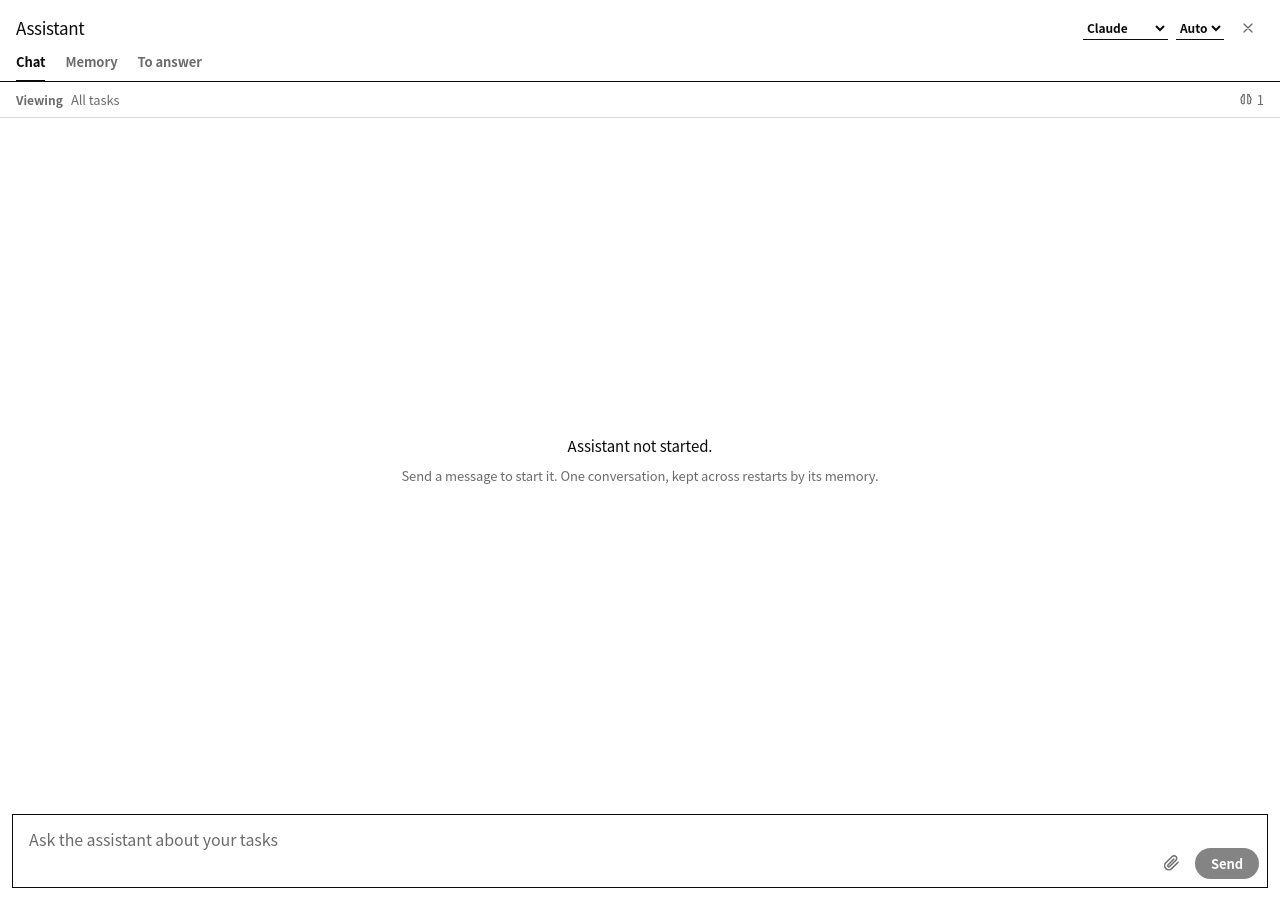
AssistantPanel › labels the memory search and filter
Click the tab "Memory".
click(92, 63)  # box x1=65 y1=44 x2=118 y2=82
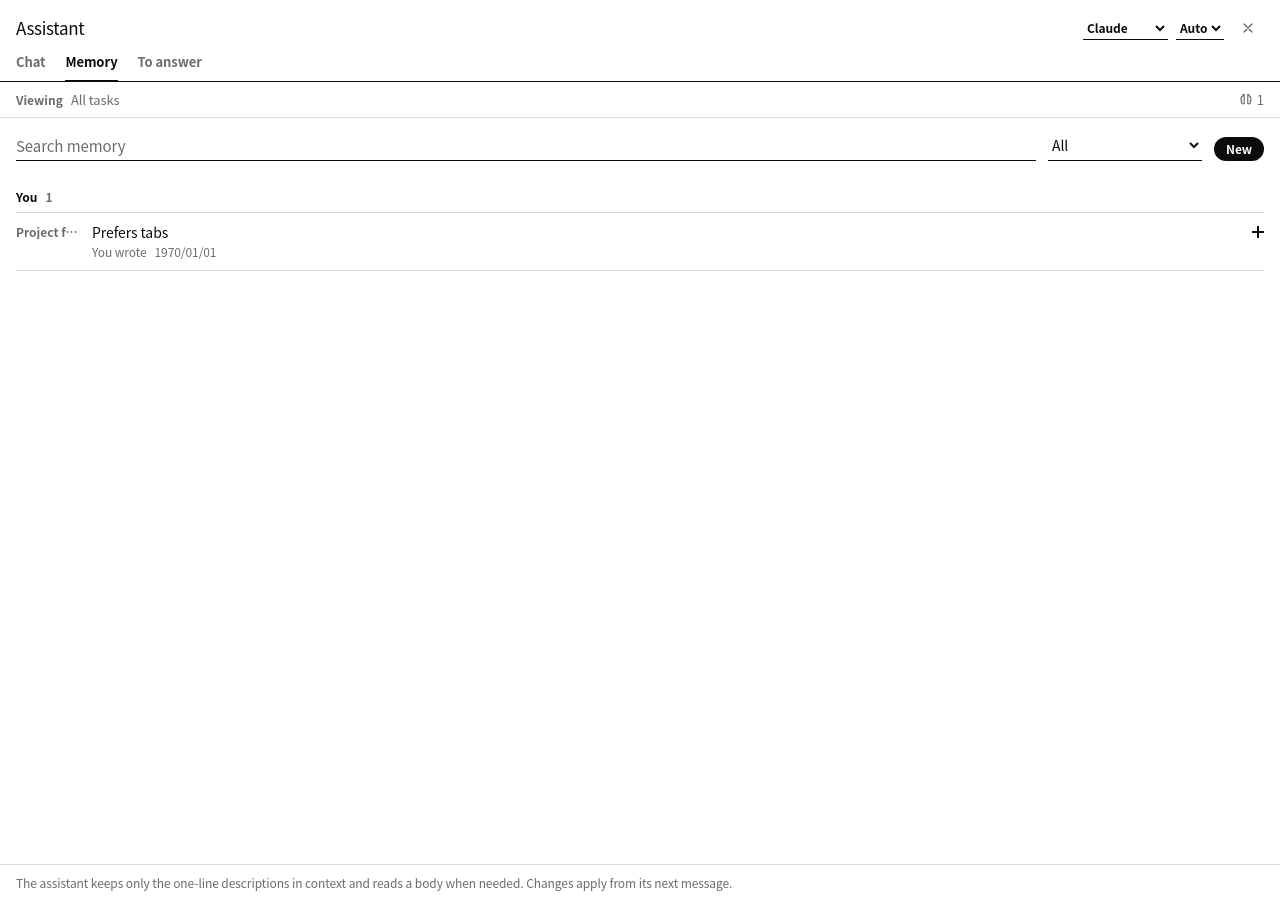
Expected: the search field labelled "Search memory" is shown, x1=16 y1=131 x2=1036 y2=161
Expected: the dropdown named "Show" is shown, x1=1048 y1=130 x2=1202 y2=161
